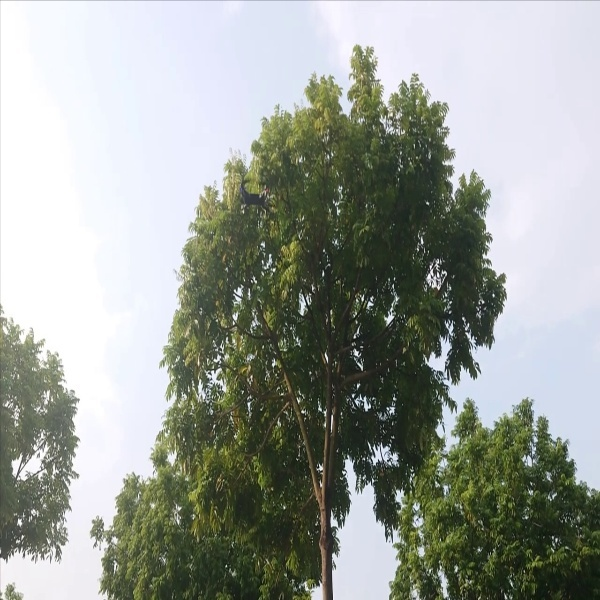drone: (233, 174, 278, 224)
